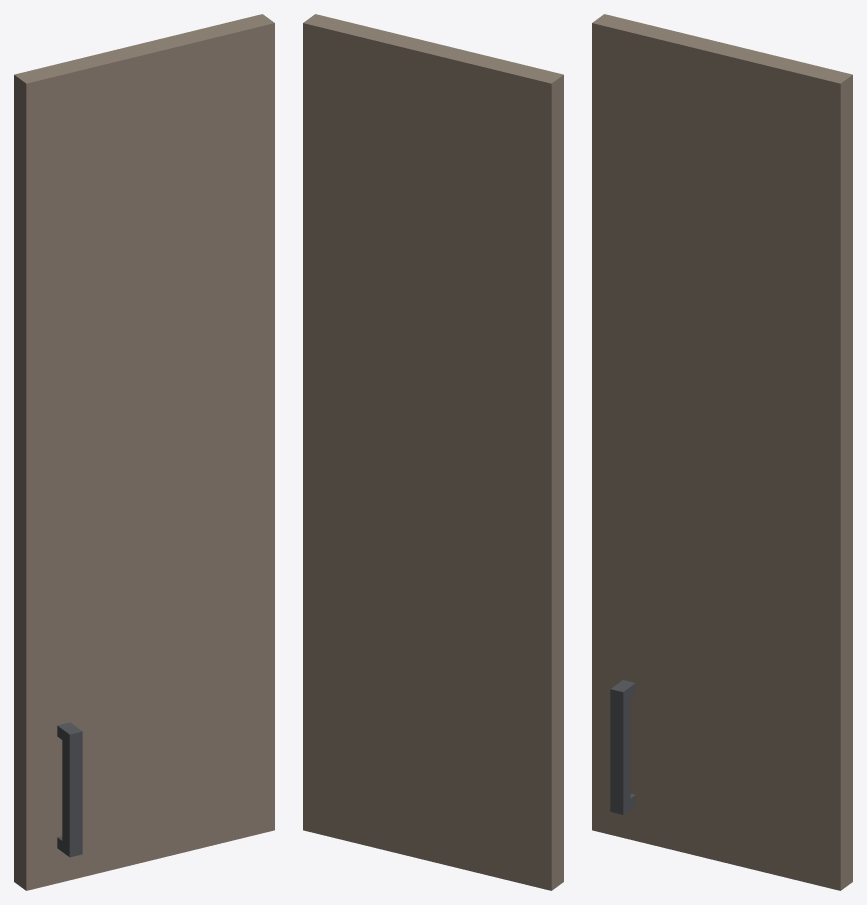
Rendered from Door1_C5_13.fbx.
3 renders of one model, left to right at view 1: azimuth 30°, elevation 25°; view 2: azimuth 150°, elevation 25°; view 3: azimuth 330°, elevation 25°, orthographic.
Visible parts, largest first — view 1: Door1_C5_13; view 2: Door1_C5_13; view 3: Door1_C5_13.
Boxes of the visible parts, x1,y1,x2,y2 form: Door1_C5_13: (14,14,274,890); Door1_C5_13: (303,14,563,890); Door1_C5_13: (592,14,852,890).
Bounding box in the file's own units: 29 × 90 × 5.03.
